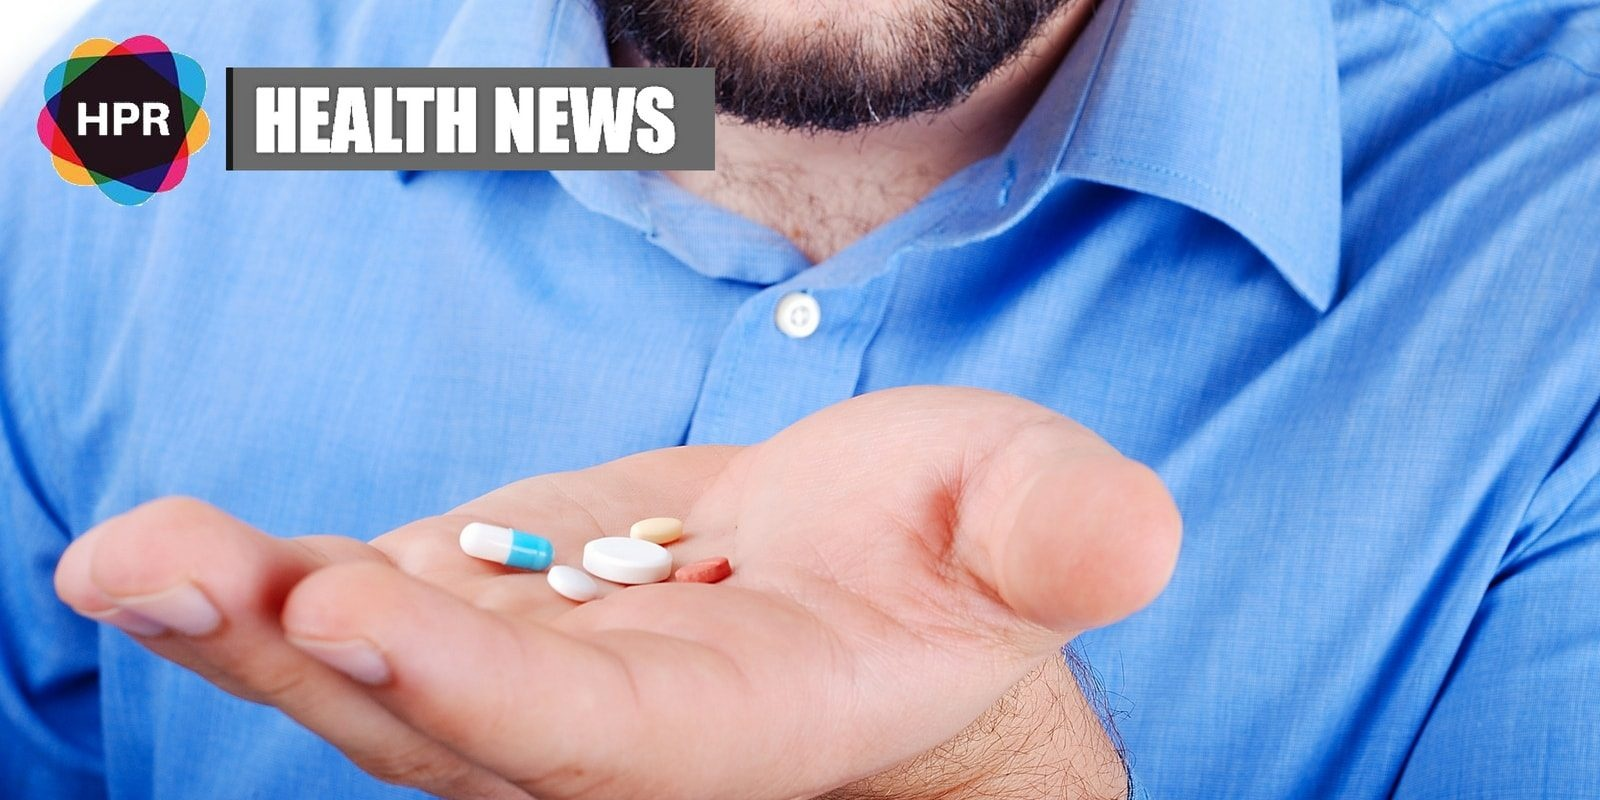pills: (457, 523, 556, 582), (583, 535, 666, 591)
